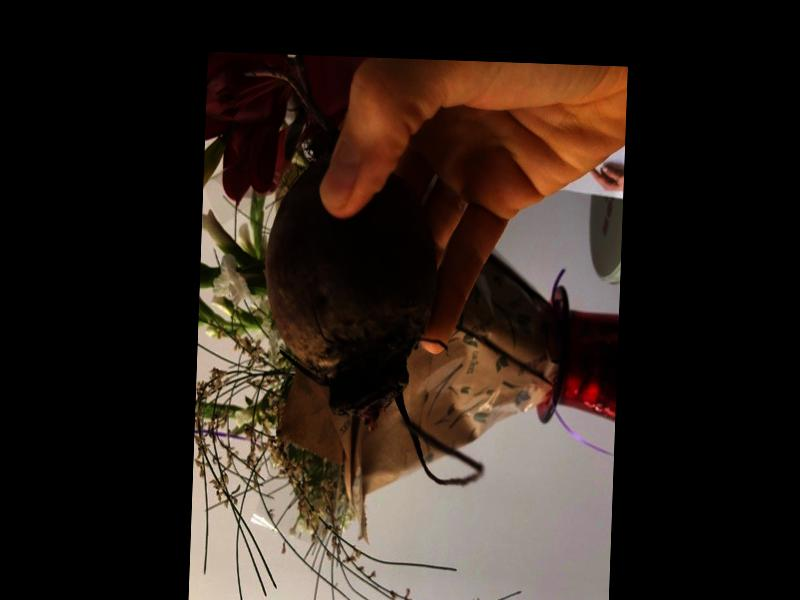Beet: (231, 70, 496, 487)
